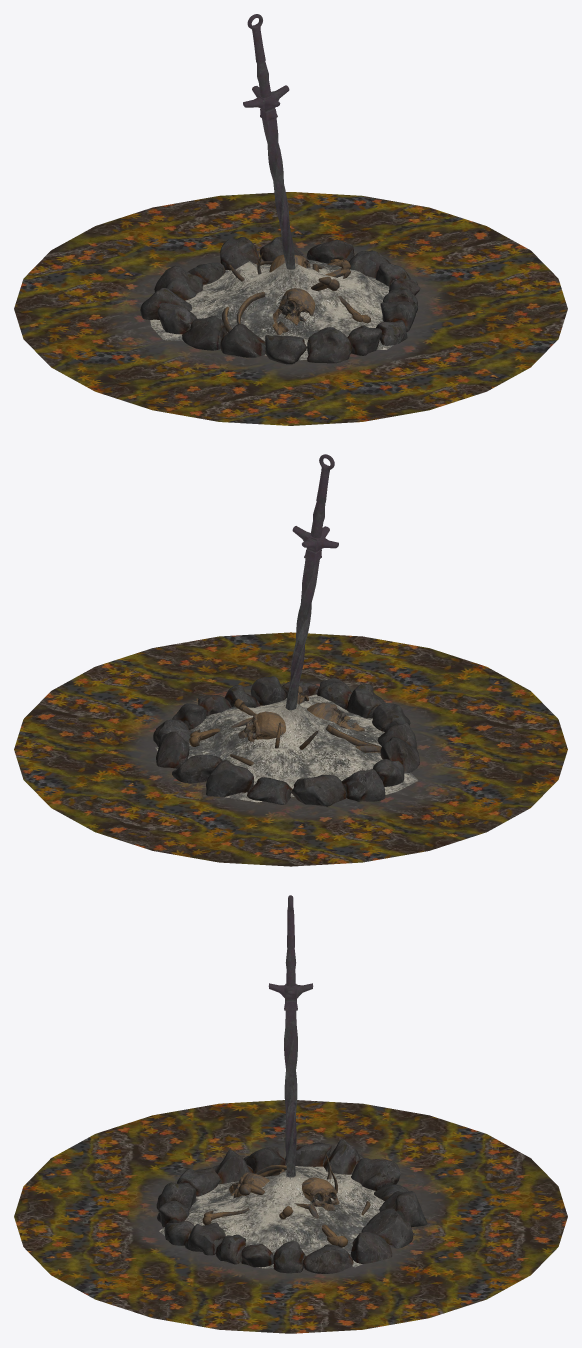
The model's file is bonfire.glb.
3 views of the same model, one above another, from view 1: azimuth 30°, elevation 25°; view 2: azimuth 150°, elevation 25°; view 3: azimuth 270°, elevation 25° (orthographic).
Parts seen in each view (by area): view 1: defaultMaterial (×7); view 2: defaultMaterial (×7); view 3: defaultMaterial (×7).
Boxes of the visible parts, box(x1,y1,x2,y2) form: defaultMaterial (×7): box(14, 14, 567, 425); defaultMaterial (×7): box(14, 454, 567, 866); defaultMaterial (×7): box(14, 895, 567, 1333).
Size of the model in its own units: 2 by 1.31 by 2.
Materials: 7 (7 with a texture image).
